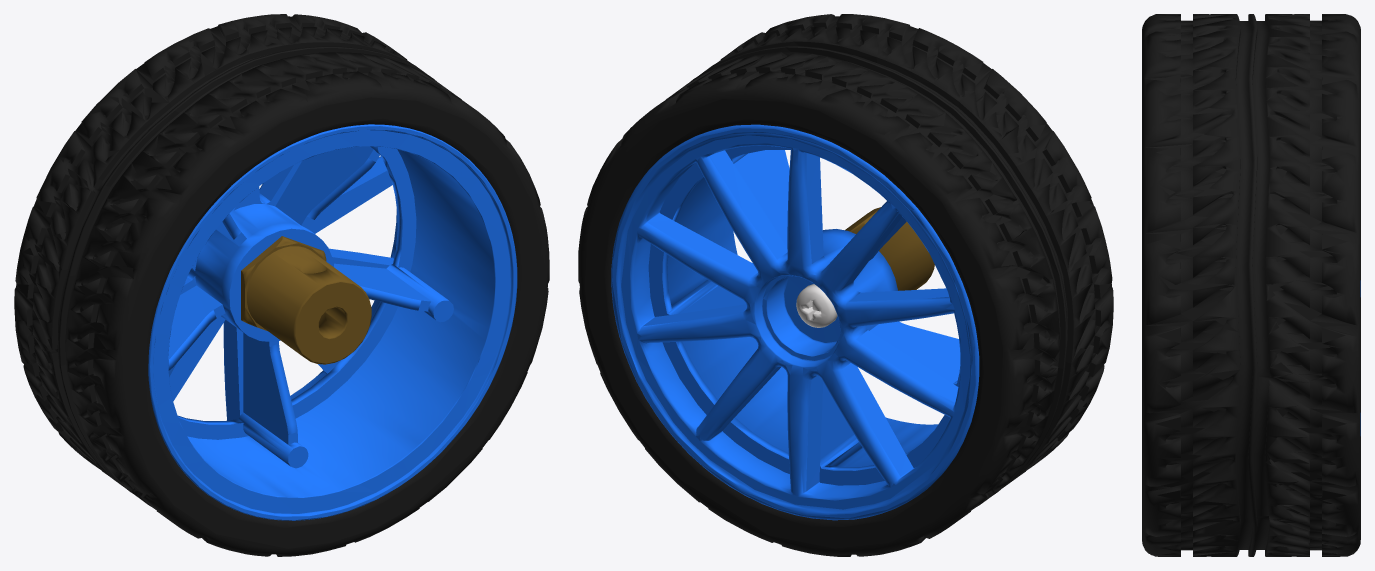
Rendered from RODA.dae.
3 renders of one model, left to right at view 1: azimuth 30°, elevation 25°; view 2: azimuth 150°, elevation 25°; view 3: azimuth 270°, elevation 25°, orthographic. The views are drawn at different scales.
Parts seen in each view (by area): view 1: RODA.001; view 2: RODA.001; view 3: RODA.001.
Boxes of the visible parts, x1,y1,x2,y2 form: RODA.001: [14, 14, 549, 556]; RODA.001: [578, 14, 1113, 556]; RODA.001: [1142, 14, 1360, 556].
Bounding box in the file's own units: 0.0651 × 0.0262 × 0.0651.
